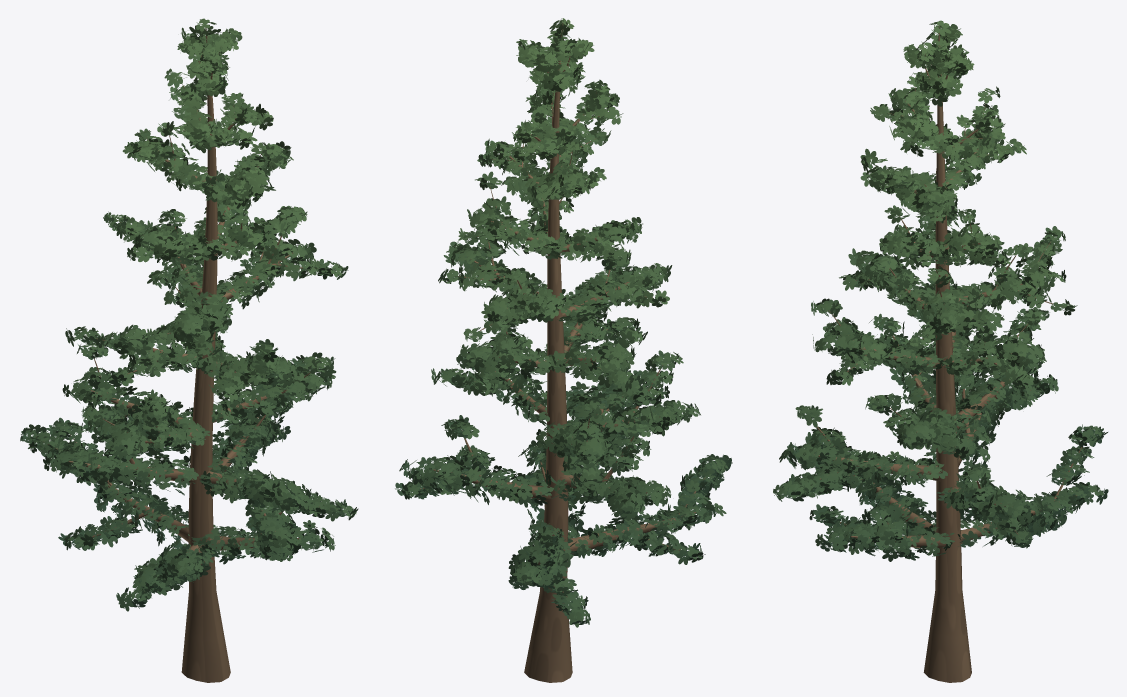
Rendered from tree.gltf.
3 renders of one model, left to right at view 1: azimuth 30°, elevation 25°; view 2: azimuth 150°, elevation 25°; view 3: azimuth 270°, elevation 25°, orthographic.
Visible parts, largest first — view 1: Tree_LOD0; view 2: Tree_LOD0; view 3: Tree_LOD0.
Part boxes in pixels (box(x1,y1,x2,y2)): Tree_LOD0: box(20, 18, 358, 682); Tree_LOD0: box(395, 18, 732, 682); Tree_LOD0: box(773, 20, 1108, 682).
Size of the model in its own units: 9.81 by 23.22 by 11.15.
2 materials, 2 textured.
